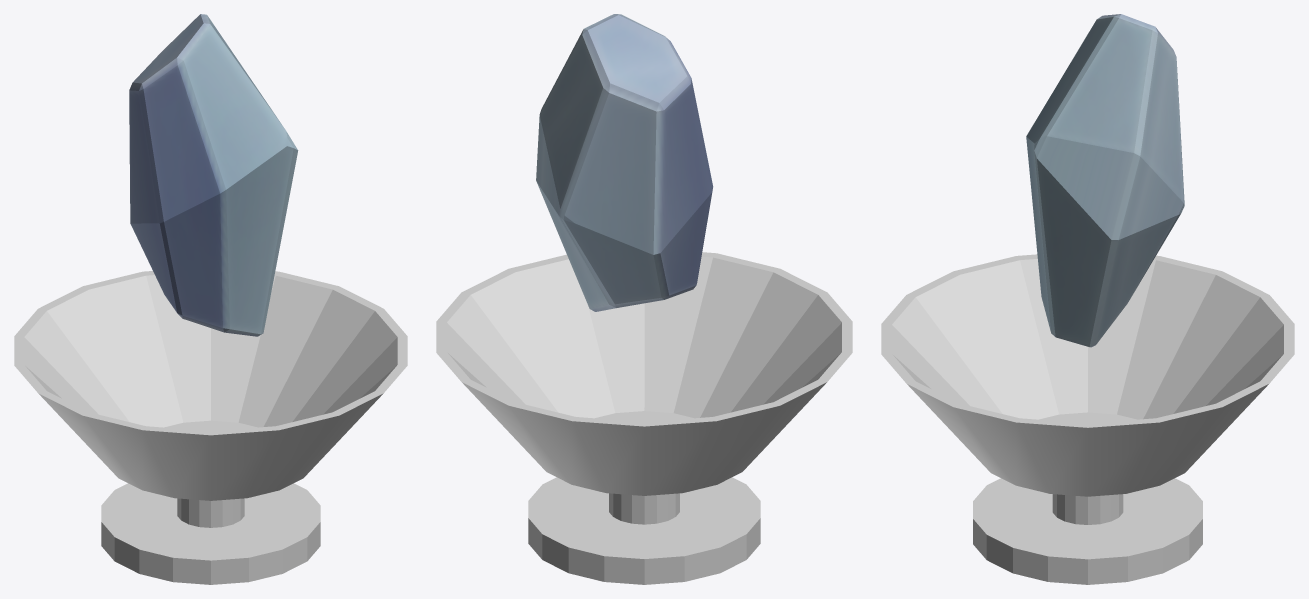
Rendered from Placeholder.fbx.
The picture shows the model from 3 angles, left to right: view 1: azimuth 30°, elevation 25°; view 2: azimuth 150°, elevation 25°; view 3: azimuth 270°, elevation 25°; orthographic projection. The views are drawn at different scales.
Parts seen in each view (by area): view 1: Cylinder001, Object001; view 2: Cylinder001, Object001; view 3: Cylinder001, Object001.
Boxes of the visible parts, box(x1,y1,x2,y2) form: Cylinder001: box(14, 271, 407, 584); Object001: box(129, 14, 298, 336); Cylinder001: box(436, 252, 852, 584); Object001: box(536, 14, 713, 311); Cylinder001: box(881, 254, 1294, 584); Object001: box(1026, 14, 1184, 347).
Bounding box in the file's own units: 17.78 × 17.51 × 24.61.
